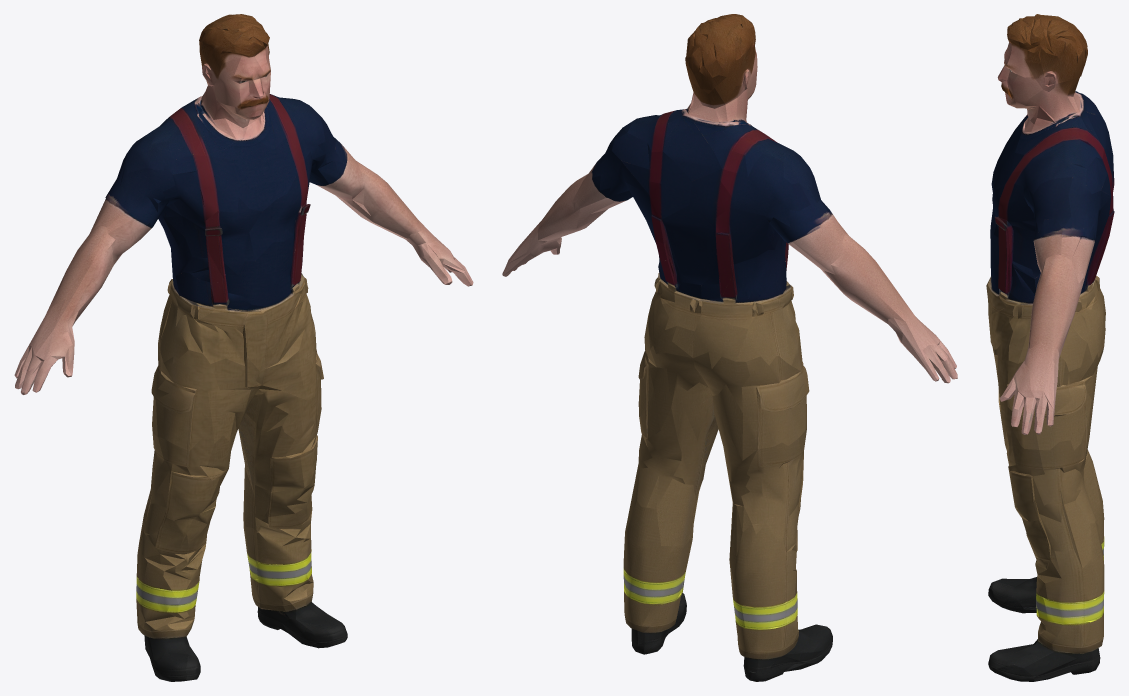
The model's file is image3d.glb.
3 renders of one model, left to right at view 1: azimuth 30°, elevation 25°; view 2: azimuth 150°, elevation 25°; view 3: azimuth 270°, elevation 25°, orthographic.
Size of the model in its own units: 1.42 by 1.9 by 0.3548.
Materials: 1 (1 with a texture image).
